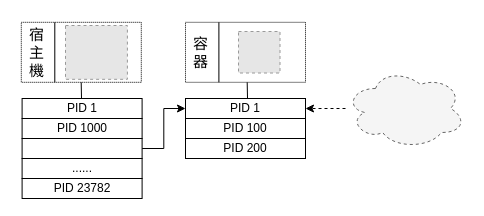
The diagram is 484 pixels wide and 216 high, and some of its shapes have lost their labels. Grey dashed boxes stand in for pictures. The shapes that lost their labels are listed below. From the top down, each one's centre as x and y in pixels, then its label:
(405,108): 容器內 應用程式
(81,148): PID 1333
